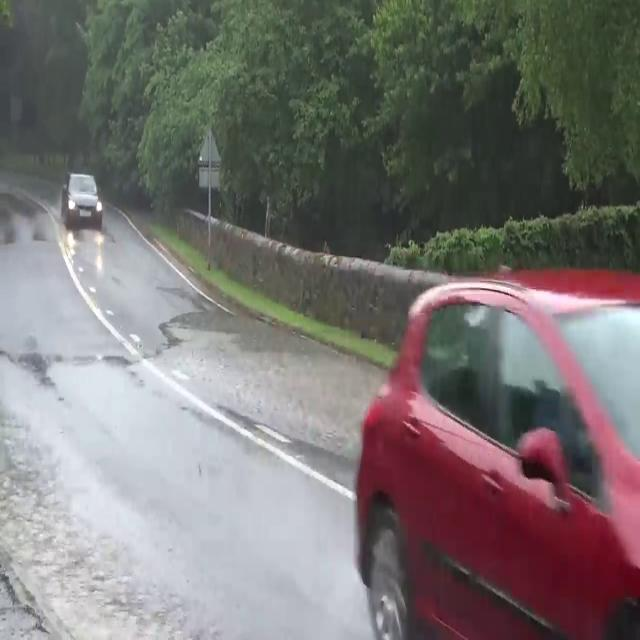license-plate-annotation: (77, 205, 96, 222)
